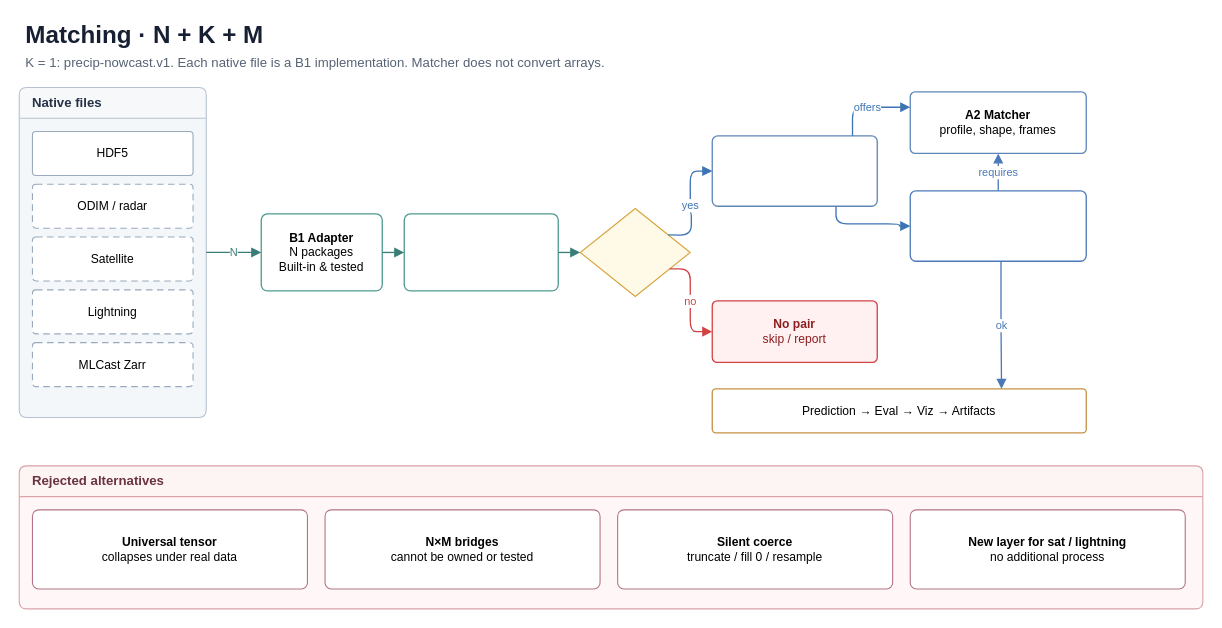
Some shapes in this 1222 by 628 pixel diagram are drawn without their labels. The centre of each missing label's shape, as x and y in pixels:
"C1 Model Adapter M packages · requires" goes at point (997, 225).
"offers v1?" goes at point (634, 251).
"Pipeline annotated items" goes at point (480, 252).
"TaskSample precip-nowcast.v1" goes at point (794, 170).
